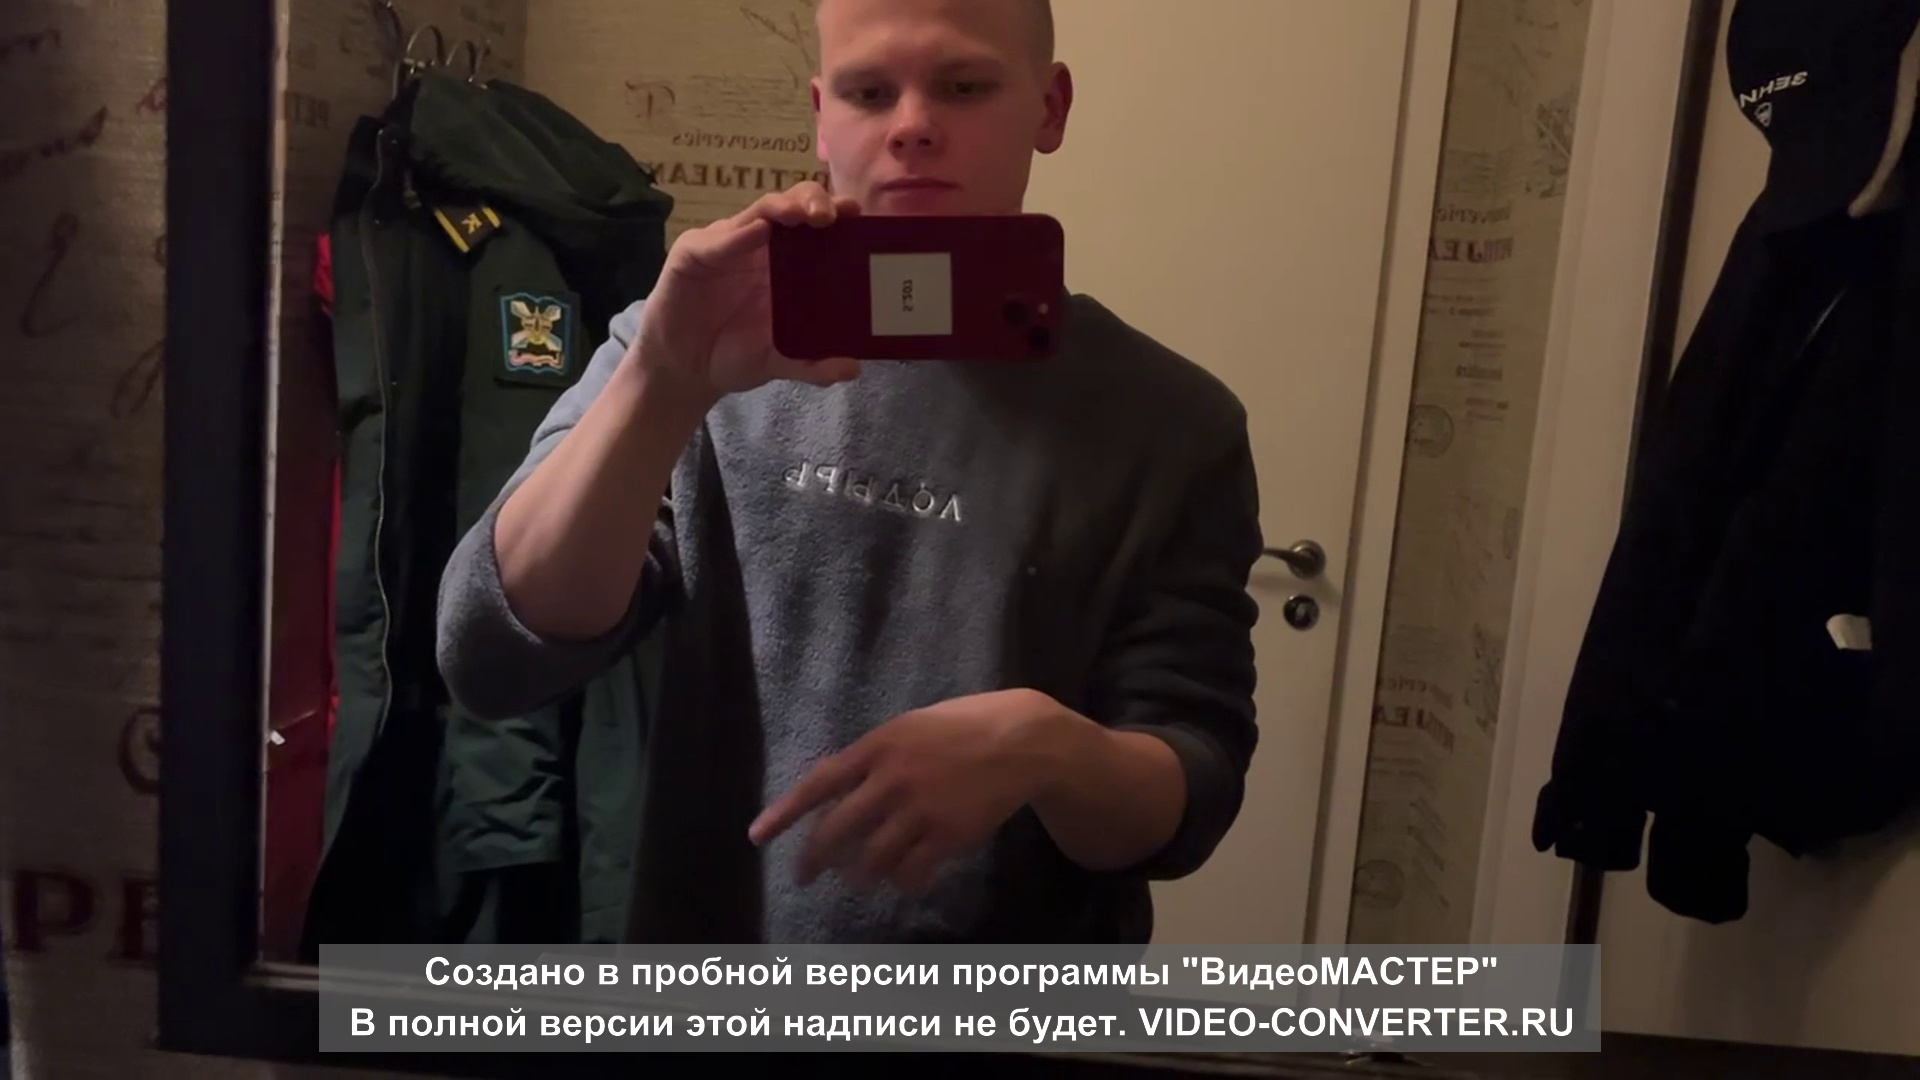Кисть: (750, 686, 1027, 901)
